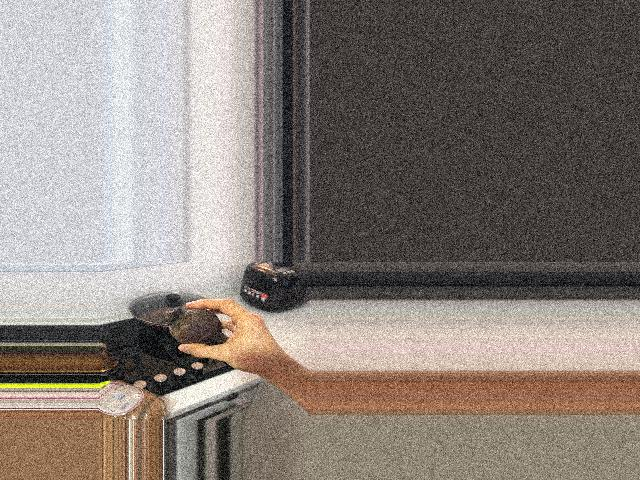beet: (164, 308, 224, 344)
